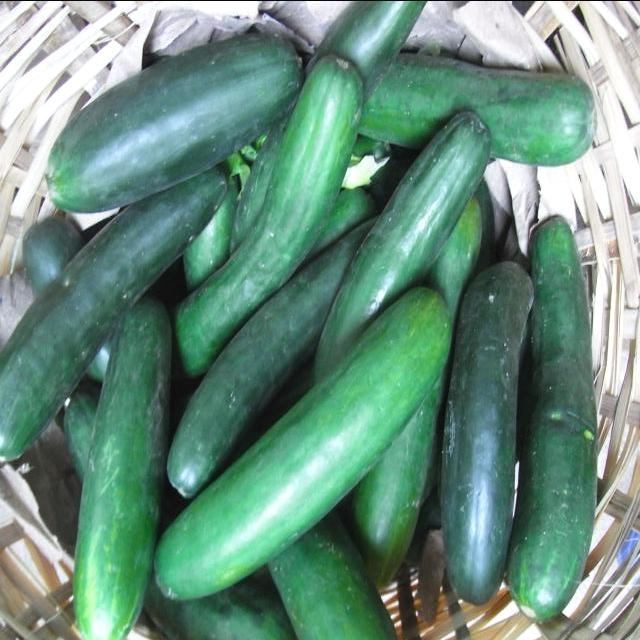cucumber: (156, 290, 453, 601), (1, 156, 234, 467), (173, 47, 363, 380), (169, 213, 375, 505), (306, 106, 496, 392), (36, 28, 310, 216), (510, 215, 598, 618), (72, 291, 173, 640), (445, 256, 534, 601), (357, 55, 593, 165)
